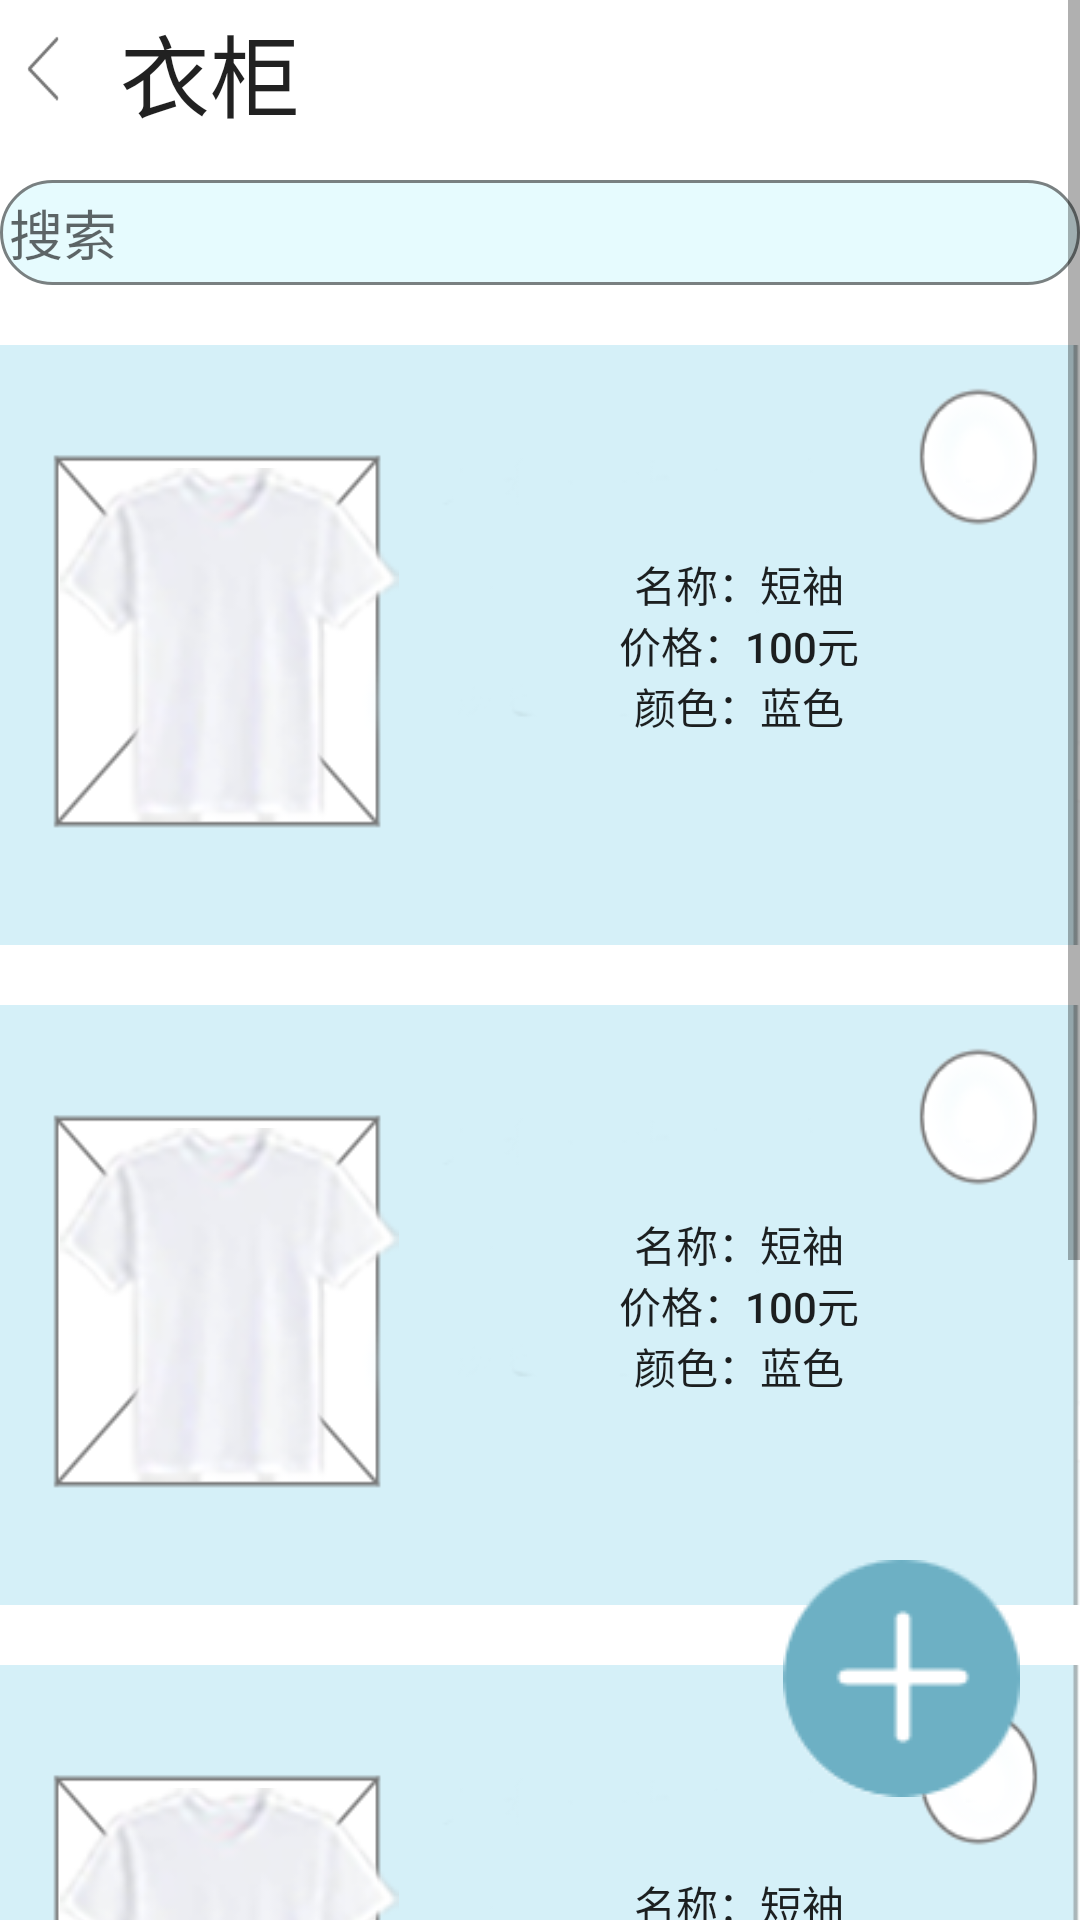

Screen size 1080 x 1920. Icon name, then its box in pixels as {"x1": x1, "y1": y1, "x2": x2, "y2": y2}:
add: {"x1": 723, "y1": 1500, "x2": 1080, "y2": 1857}
